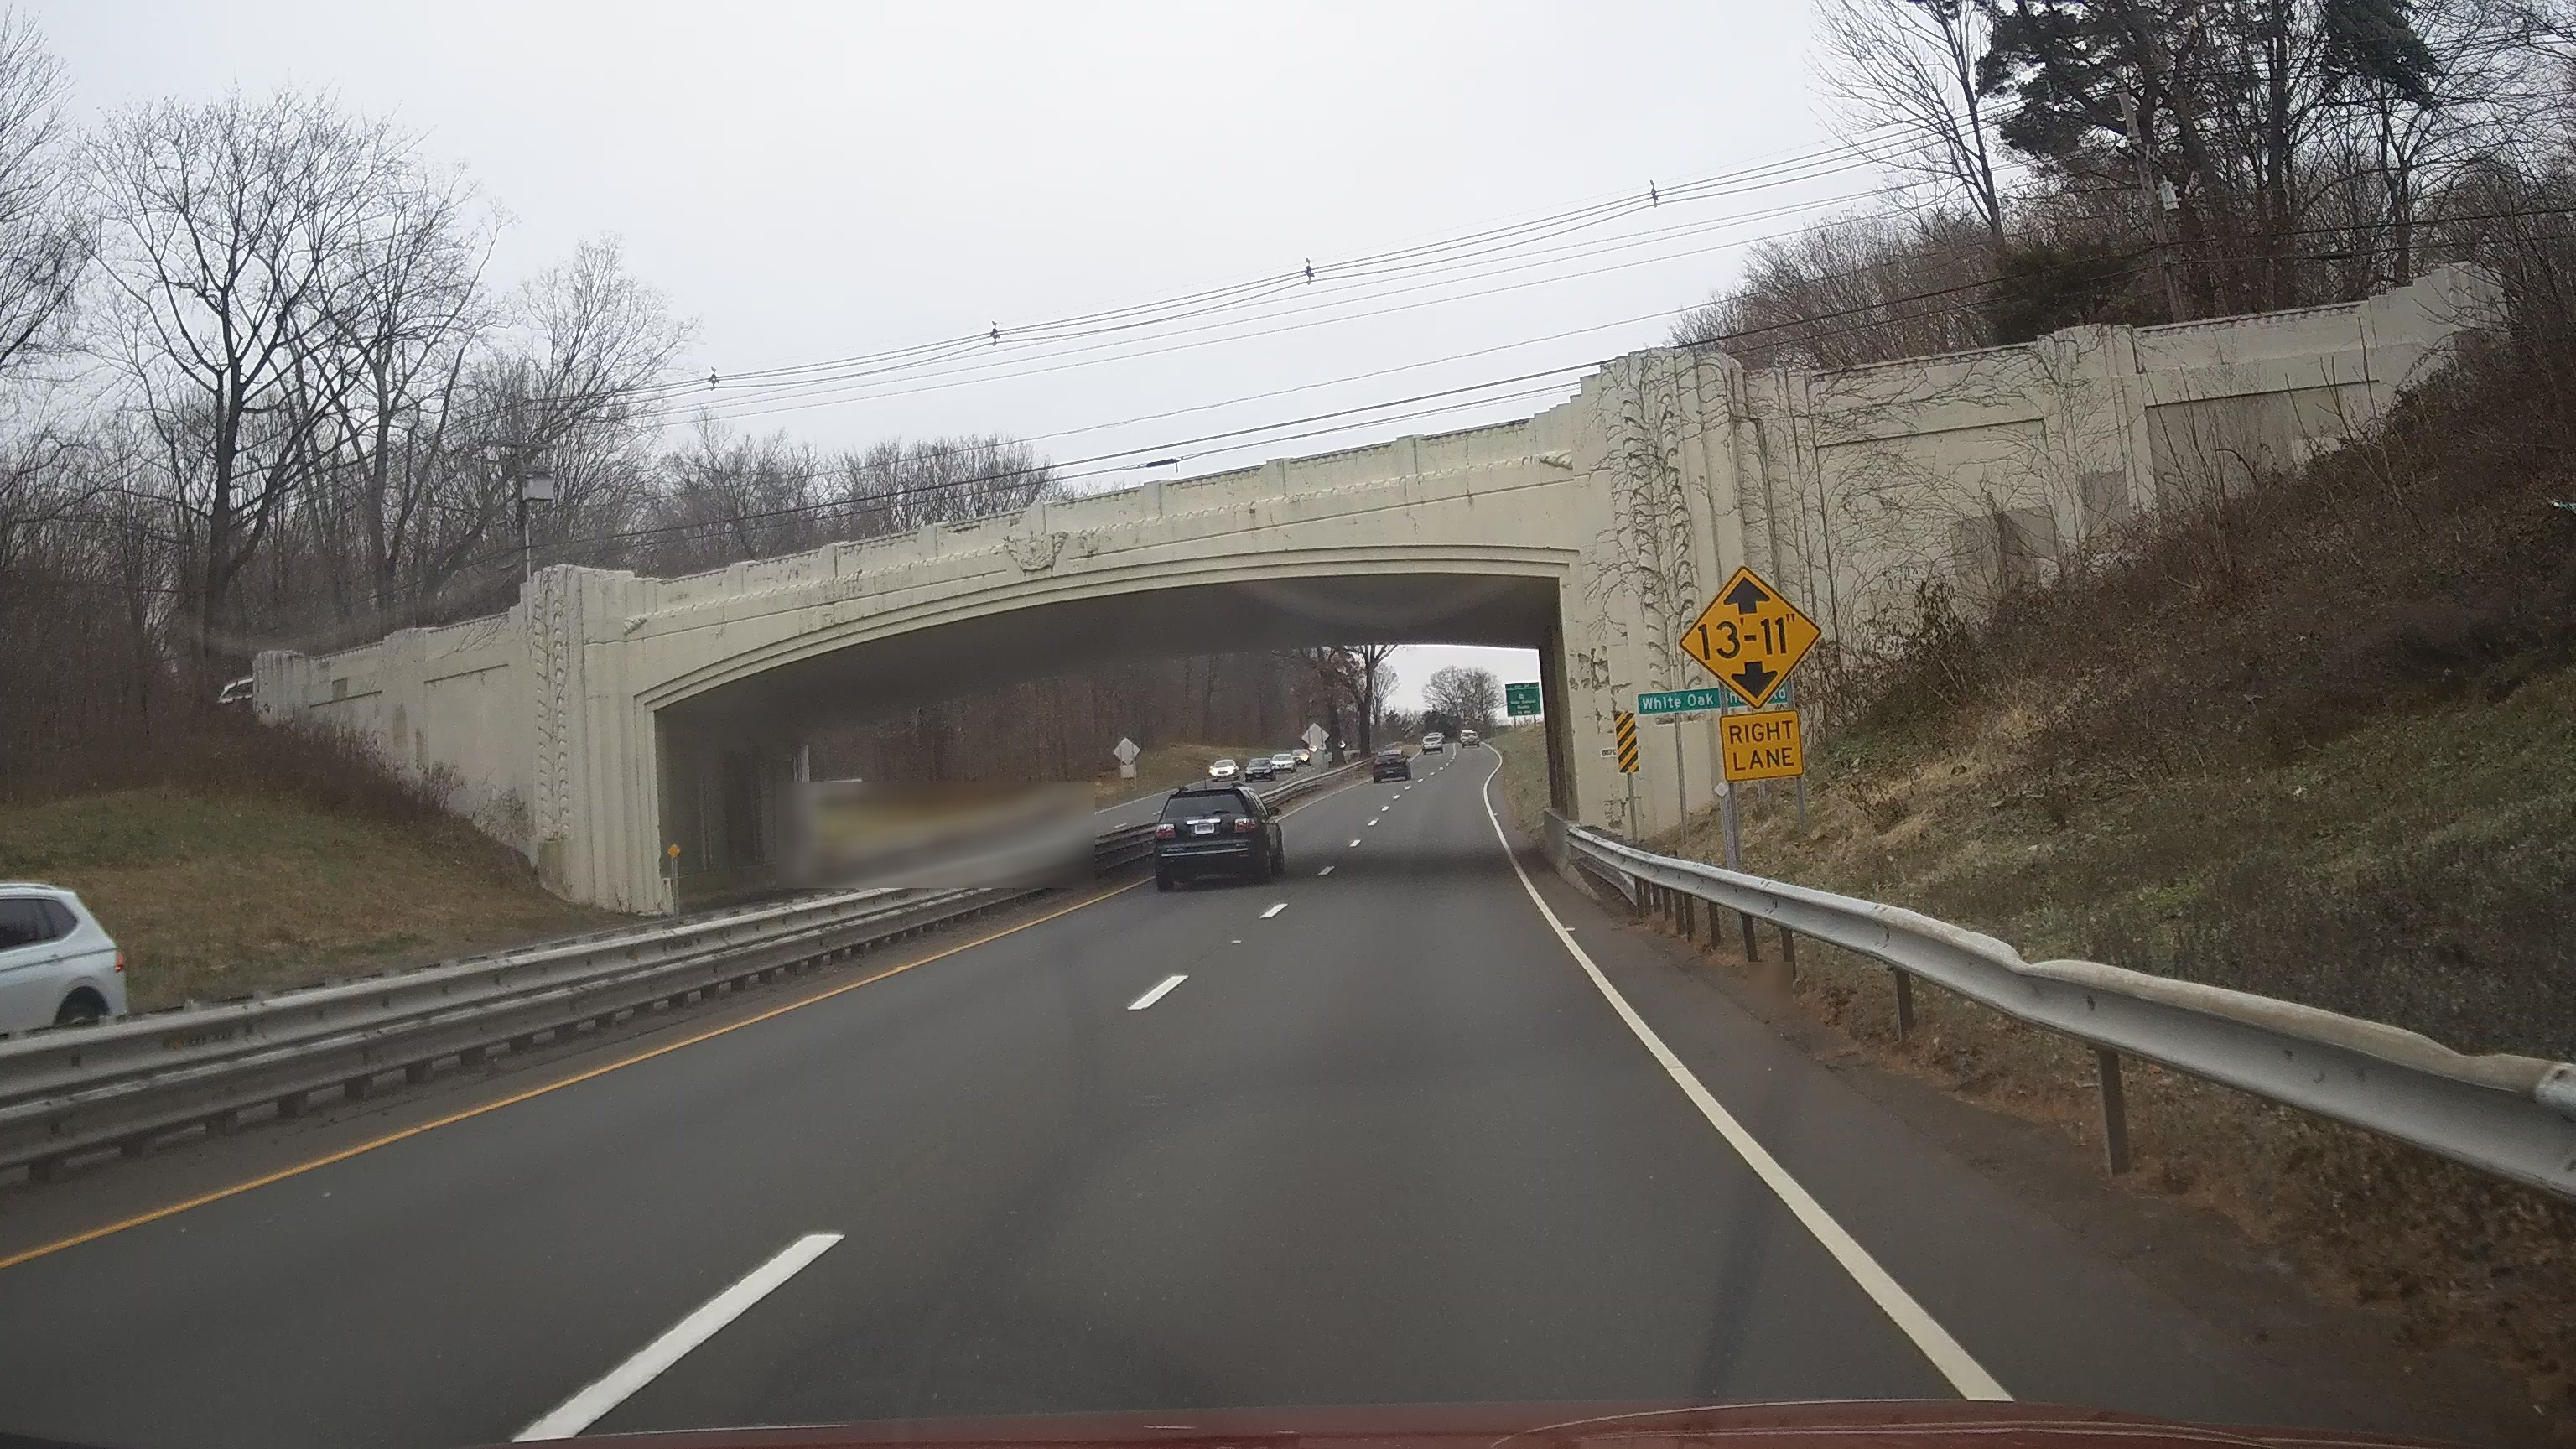low-clearance-sign: (1677, 566, 1824, 711)
